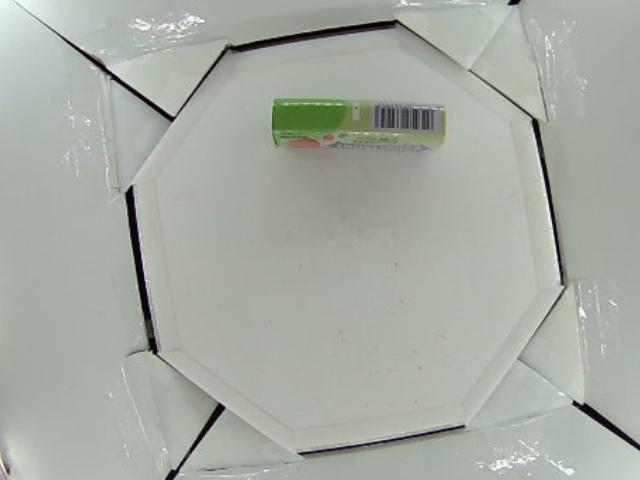Bottle: (268, 96, 446, 152)
